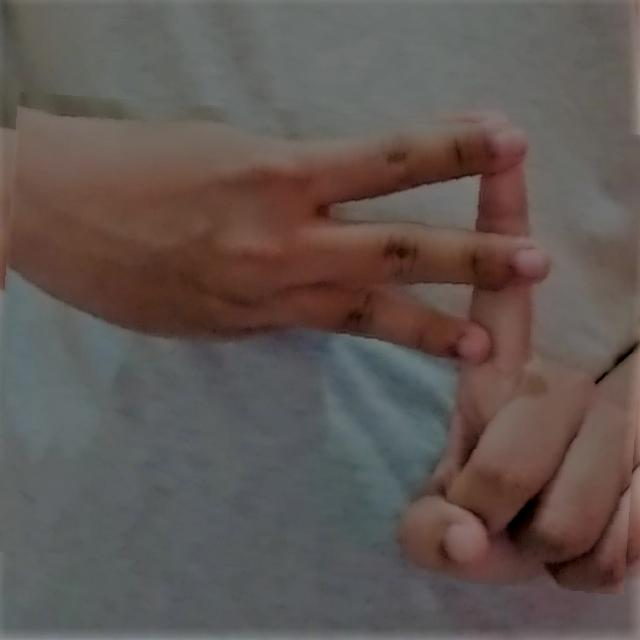B: (6, 108, 639, 592)
